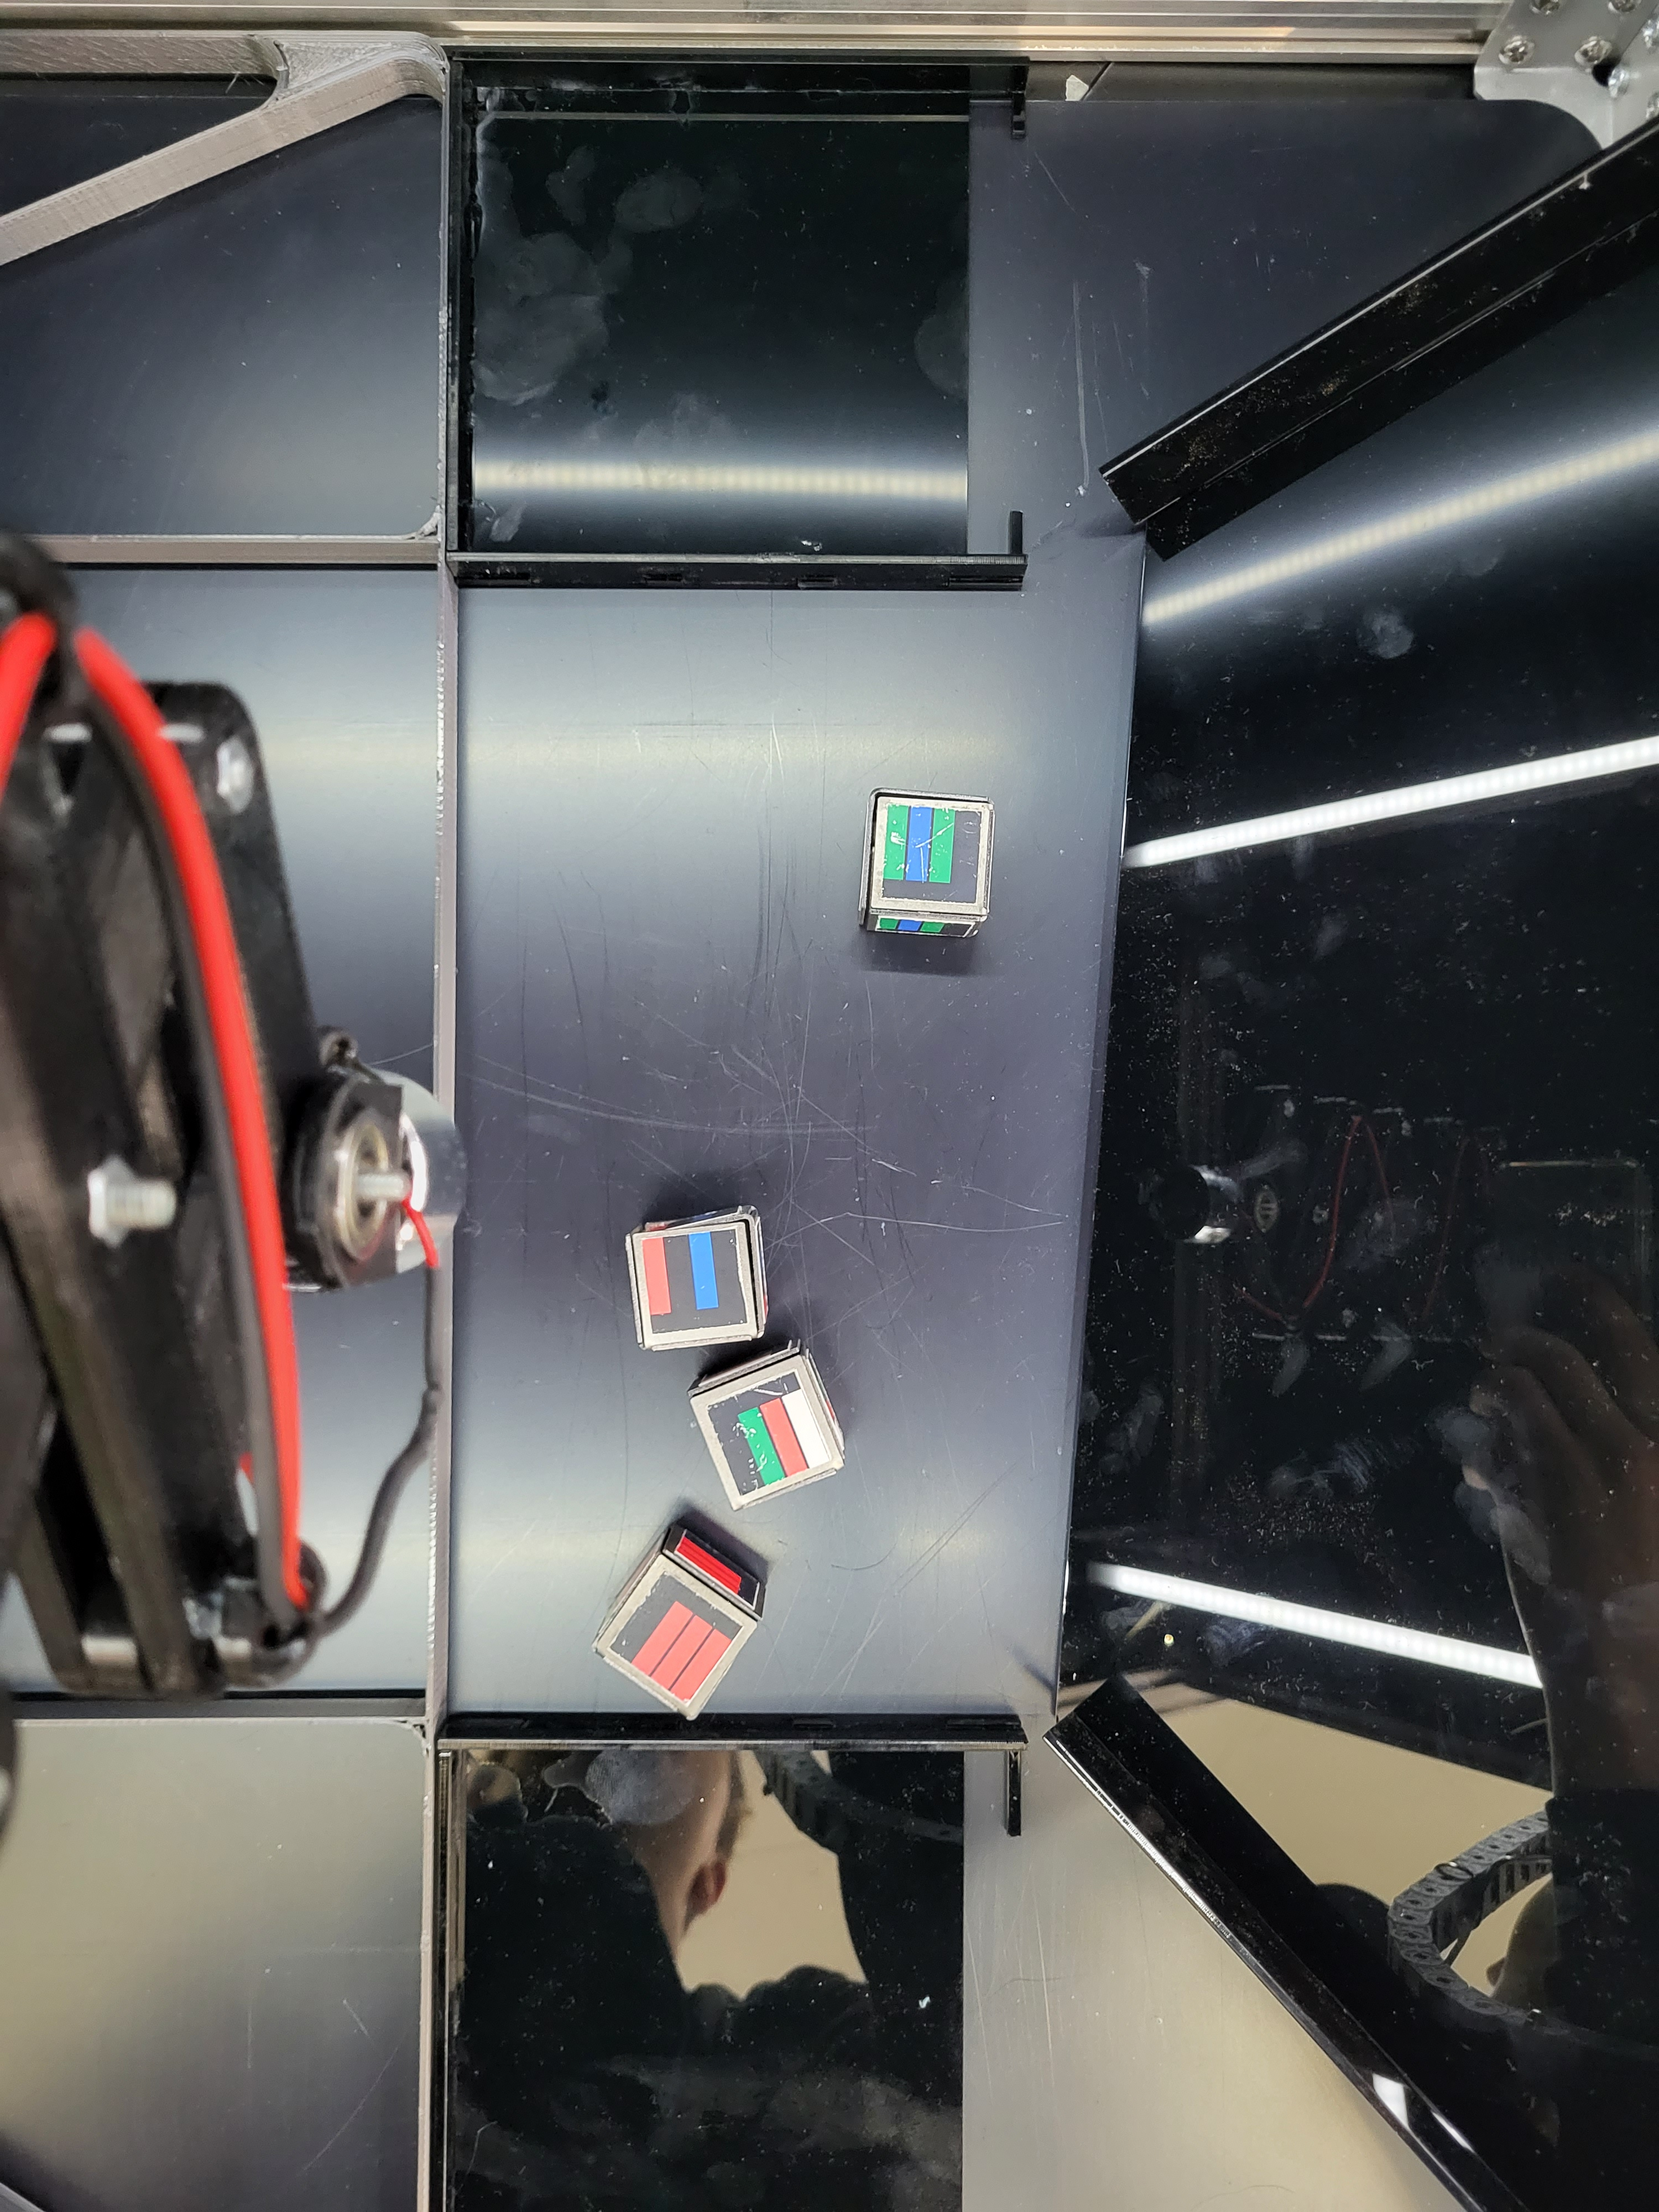Cube: (587, 1531, 784, 1716), (681, 1339, 875, 1519), (624, 1172, 781, 1357), (843, 766, 1000, 946)
